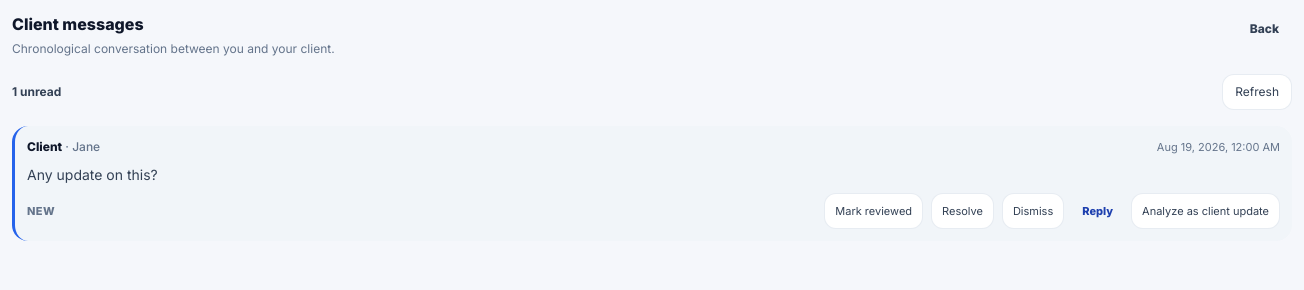
Test: ClientCommunicationHistoryModal - explicit status actions › 52. a failed status change shows a safe error, without leaking internals
Check: the text "Any update on this?" is shown, box x1=27 y1=166 x2=158 y2=183
Click the button "Mark reviewed" at (874, 211), box x1=824 y1=193 x2=923 y2=229
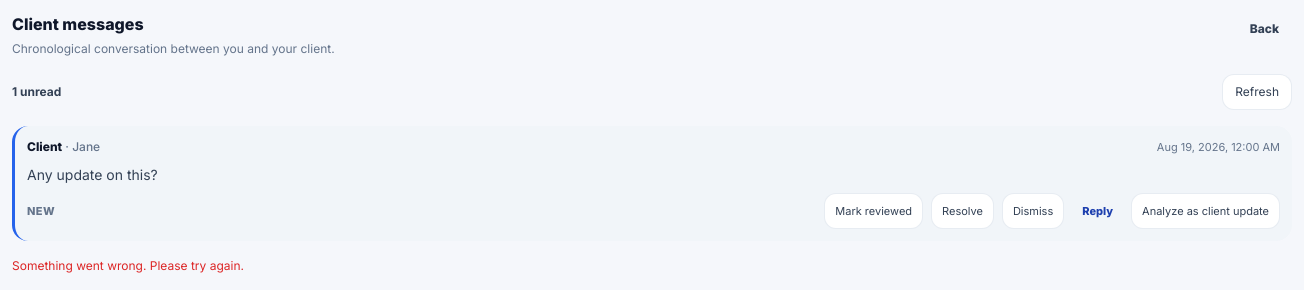
Check: the text "Something went wrong. Please try again." is shown, box x1=12 y1=258 x2=244 y2=273
